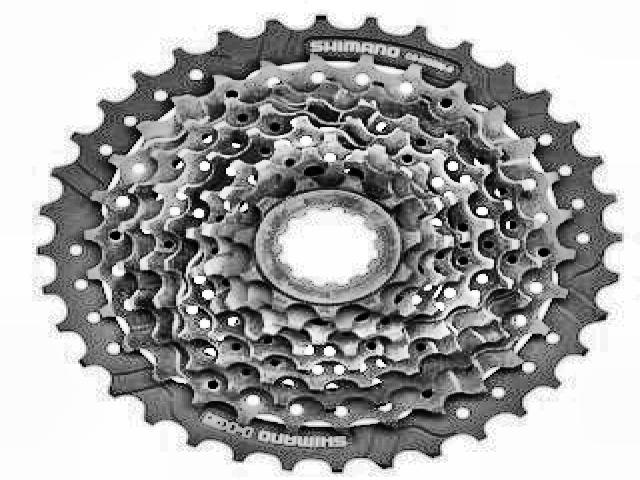cassette: (35, 14, 624, 472)
